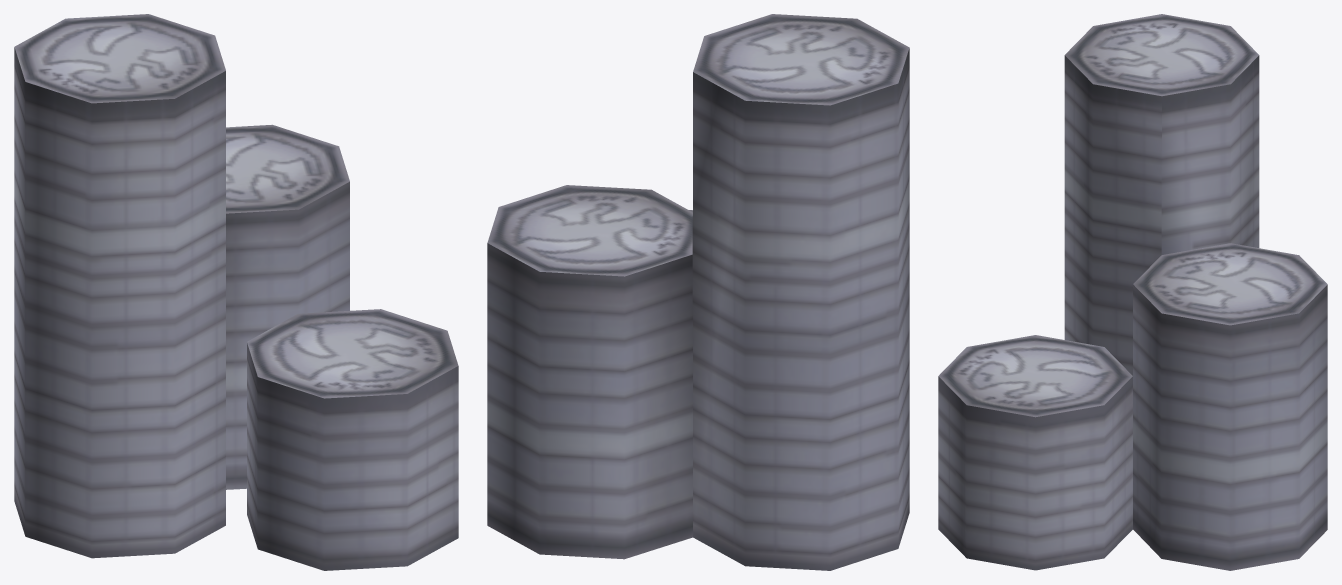
File: monney-2.glb
3 views of the same model, side by side, from view 1: azimuth 30°, elevation 25°; view 2: azimuth 150°, elevation 25°; view 3: azimuth 270°, elevation 25° (orthographic). The views are drawn at different scales.
Visible parts, largest first — view 1: money.001_Cylinder.002; view 2: money.001_Cylinder.002; view 3: money.001_Cylinder.002.
Part boxes in pixels (x1=…): money.001_Cylinder.002: x1=14, y1=14, x2=458, y2=570; money.001_Cylinder.002: x1=487, y1=14, x2=909, y2=570; money.001_Cylinder.002: x1=938, y1=14, x2=1327, y2=570.
Size of the model in its own units: 0.7499 by 0.9255 by 0.8082.
1 material, 1 textured.
